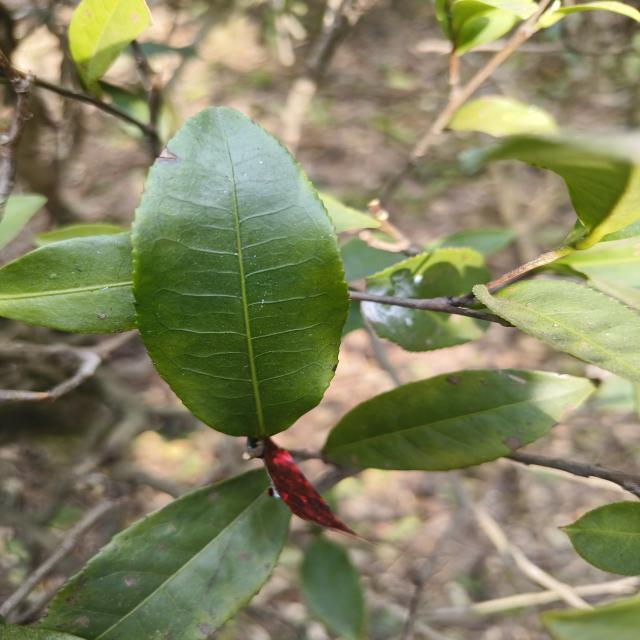Leaf: (131, 107, 349, 437), (37, 468, 291, 640), (323, 369, 594, 471), (485, 136, 640, 249), (473, 280, 640, 383), (0, 232, 136, 333), (69, 0, 152, 95), (300, 536, 366, 640), (366, 248, 491, 299), (362, 302, 489, 351), (560, 501, 640, 575), (448, 95, 558, 137)
